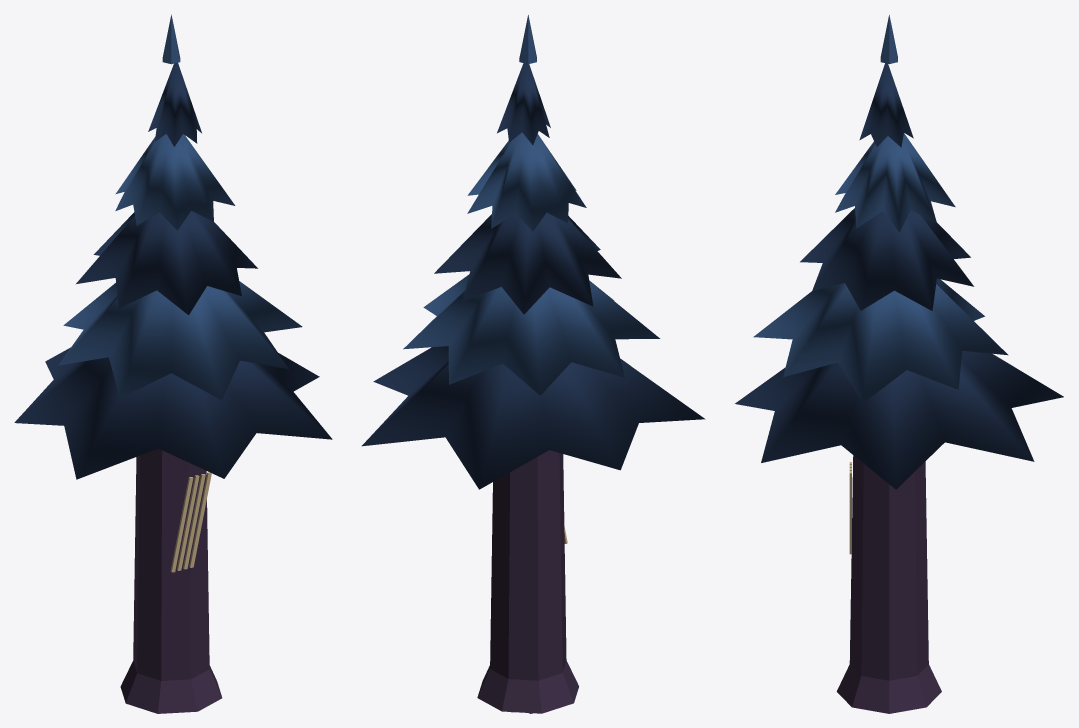
The model's file is pine_clawed.glb.
The picture shows the model from 3 angles, left to right: view 1: azimuth 30°, elevation 25°; view 2: azimuth 150°, elevation 25°; view 3: azimuth 270°, elevation 25°; orthographic projection.
Parts seen in each view (by area): view 1: pine_clawed; view 2: pine_clawed; view 3: pine_clawed.
Boxes of the visible parts, x1,y1,x2,y2 form: pine_clawed: (14, 14, 332, 713); pine_clawed: (362, 15, 705, 713); pine_clawed: (735, 15, 1063, 713).
Size of the model in its own units: 1.64 by 3.71 by 1.63.
